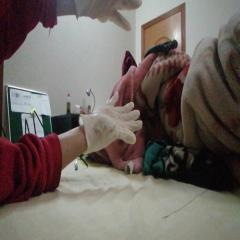gloved: (80, 92, 142, 155), (75, 0, 142, 29)
